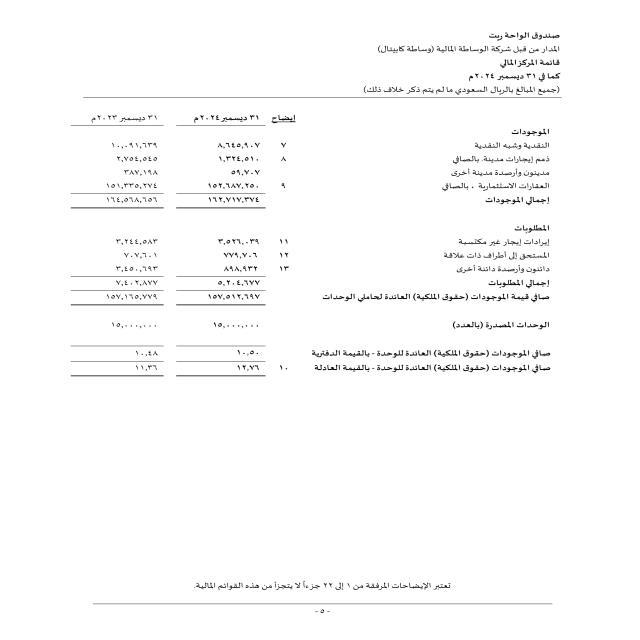financial_sheets: (491, 57, 562, 72)
table: (44, 110, 301, 395)
